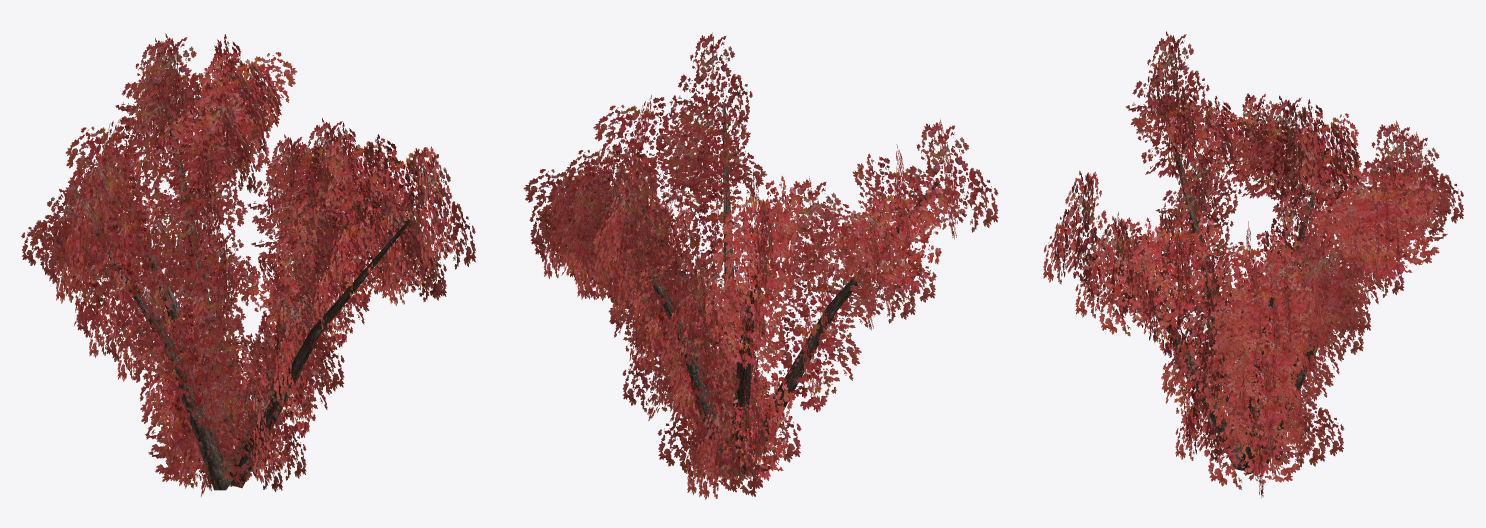
File: bush_3d_03_red_lod1.glb
The picture shows the model from 3 angles, left to right: view 1: azimuth 30°, elevation 25°; view 2: azimuth 150°, elevation 25°; view 3: azimuth 270°, elevation 25°; orthographic projection. The views are drawn at different scales.
Visible parts, largest first — view 1: foliage_cards, wood_geometry; view 2: foliage_cards, wood_geometry; view 3: foliage_cards, wood_geometry.
Boxes of the visible parts, x1=… form: foliage_cards: x1=21, y1=33, x2=475, y2=496; wood_geometry: x1=102, y1=79, x2=410, y2=490; foliage_cards: x1=523, y1=32, x2=998, y2=499; wood_geometry: x1=620, y1=103, x2=939, y2=476; foliage_cards: x1=1043, y1=31, x2=1463, y2=498; wood_geometry: x1=1089, y1=98, x2=1414, y2=474.
Bounding box in the file's own units: 2.39 × 2.08 × 2.25.
Materials: 2 (2 with a texture image).
